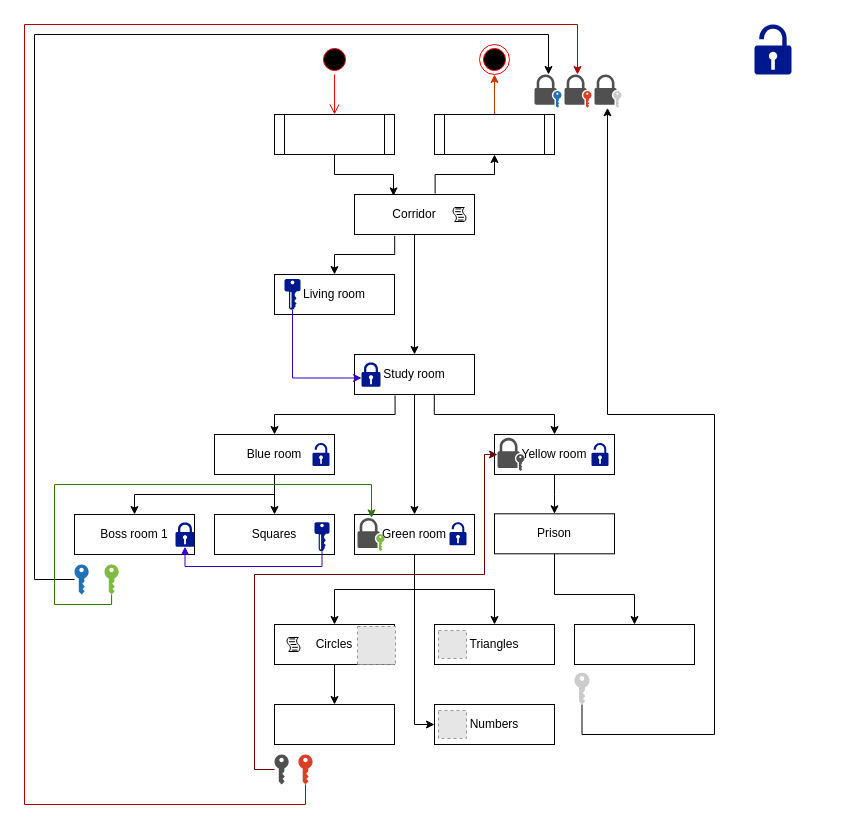
The diagram is 863 pixels wide and 830 high, and some of its shapes have lost their labels. Grey dashed boxes stand in for pictures. Each missing label, with the centre of its shape:
Bedroom: pixel 334 134
Boss room 2: pixel 334 724
Boss room 3: pixel 634 644
Kitchen: pixel 494 134
Locked until boss is beaten: pixel 772 49
